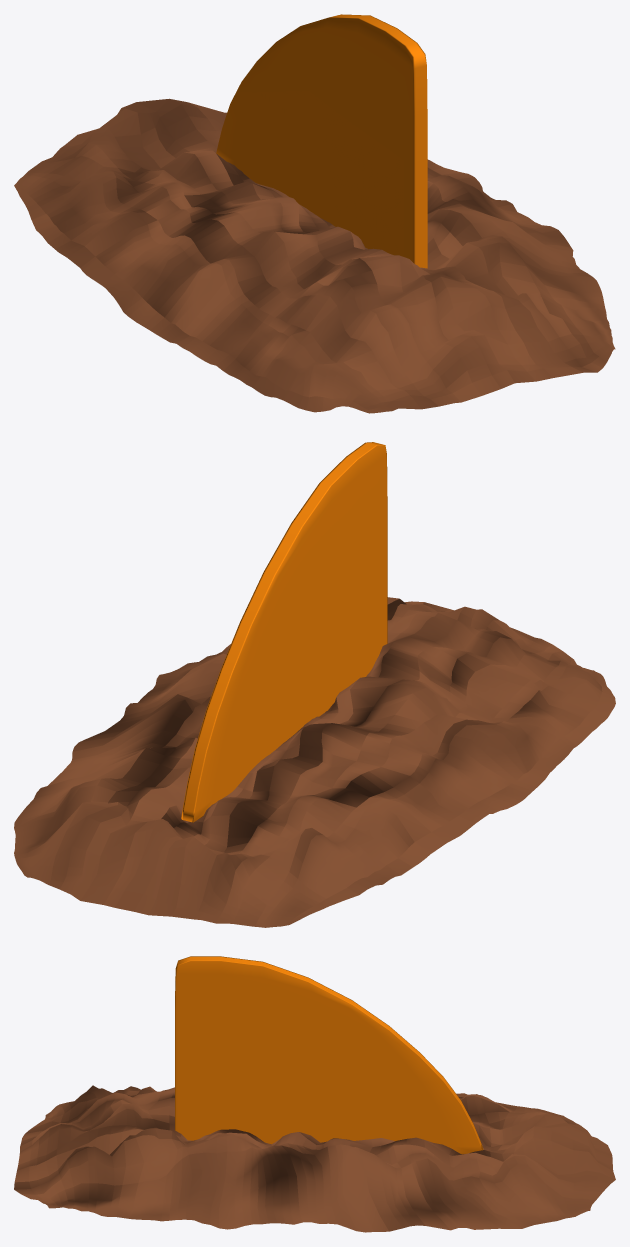
The model's file is Aleta_BlendShapes.fbx.
3 renders of one model, top to bottom at view 1: azimuth 30°, elevation 25°; view 2: azimuth 150°, elevation 25°; view 3: azimuth 270°, elevation 25°, orthographic. The views are drawn at different scales.
Visible parts, largest first — view 1: Aleta; view 2: Aleta; view 3: Aleta.
Part boxes in pixels (x1,y1,x2,y2): Aleta: (14, 14, 615, 413); Aleta: (14, 442, 615, 927); Aleta: (14, 956, 615, 1232).
Size of the model in its own units: 845 by 564 by 1417.
